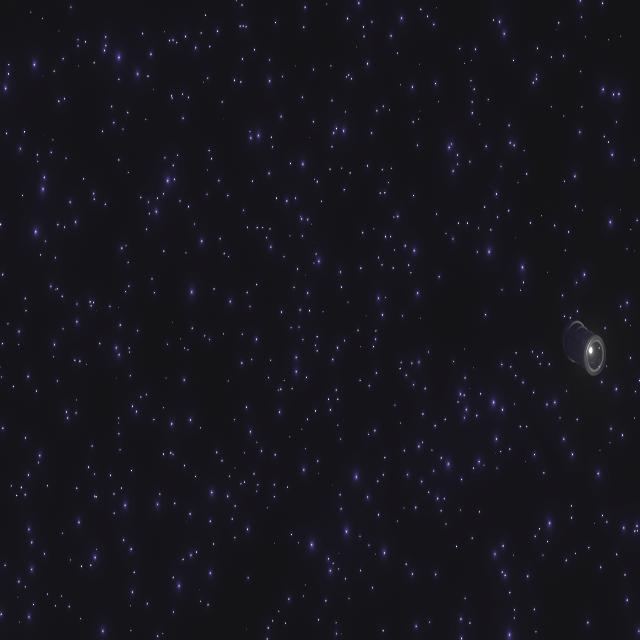large_debris: (568, 312, 606, 378)
